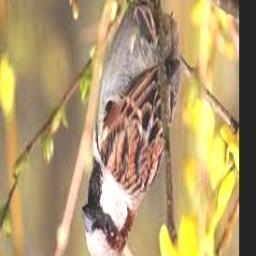Sparrow: (80, 0, 180, 256)
